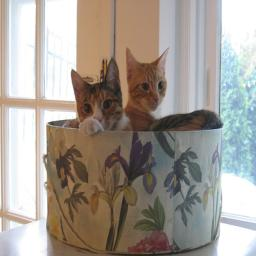catnose: (94, 114, 102, 124), (152, 96, 160, 104)
